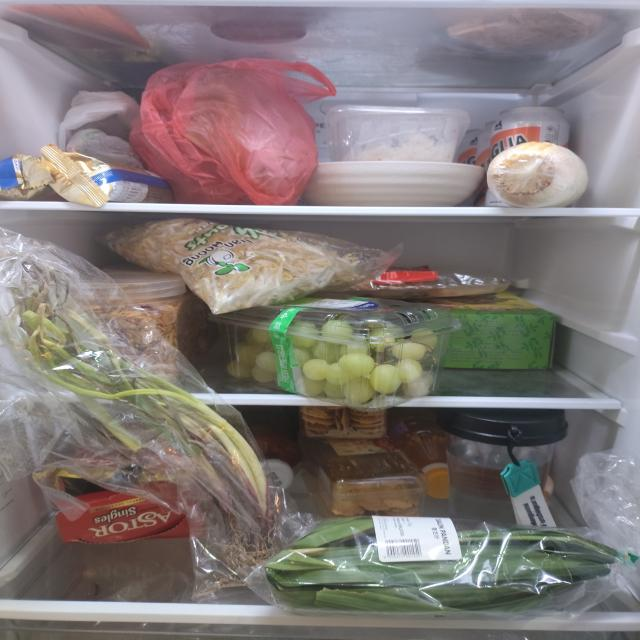bean_sprouts: (108, 218, 366, 316)
corn: (485, 140, 590, 210)
grape: (226, 320, 439, 403)
leafy_greens: (262, 515, 618, 612)
spring_onion: (0, 258, 280, 585)
